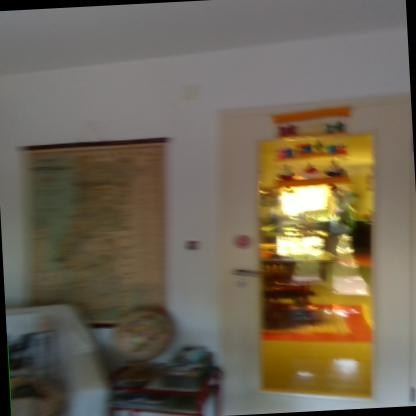closed: (208, 81, 415, 415)
